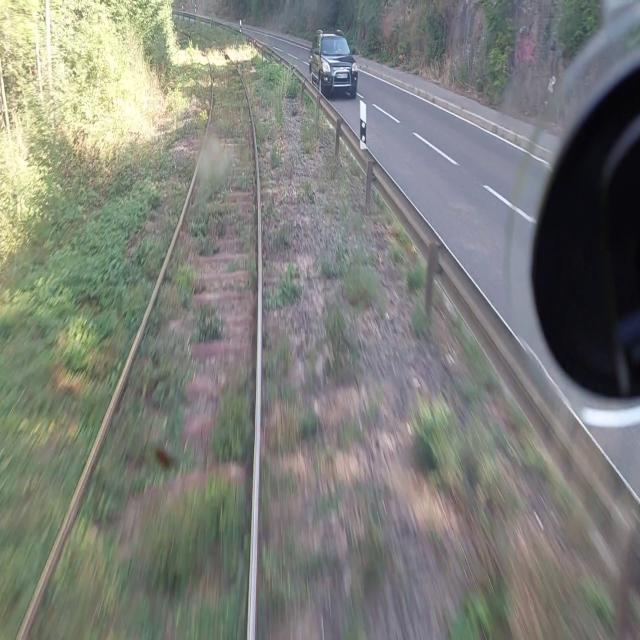Plant: (0, 27, 212, 639), (78, 252, 196, 528), (257, 455, 335, 632), (177, 24, 256, 197), (178, 18, 287, 142), (143, 482, 248, 601), (186, 198, 259, 276), (206, 375, 254, 472), (264, 336, 306, 415), (264, 260, 308, 315), (321, 298, 344, 387), (311, 484, 348, 532), (196, 303, 224, 347), (300, 336, 319, 400), (269, 213, 297, 256), (292, 408, 316, 446), (312, 441, 334, 466), (337, 409, 350, 447), (270, 146, 282, 171)
